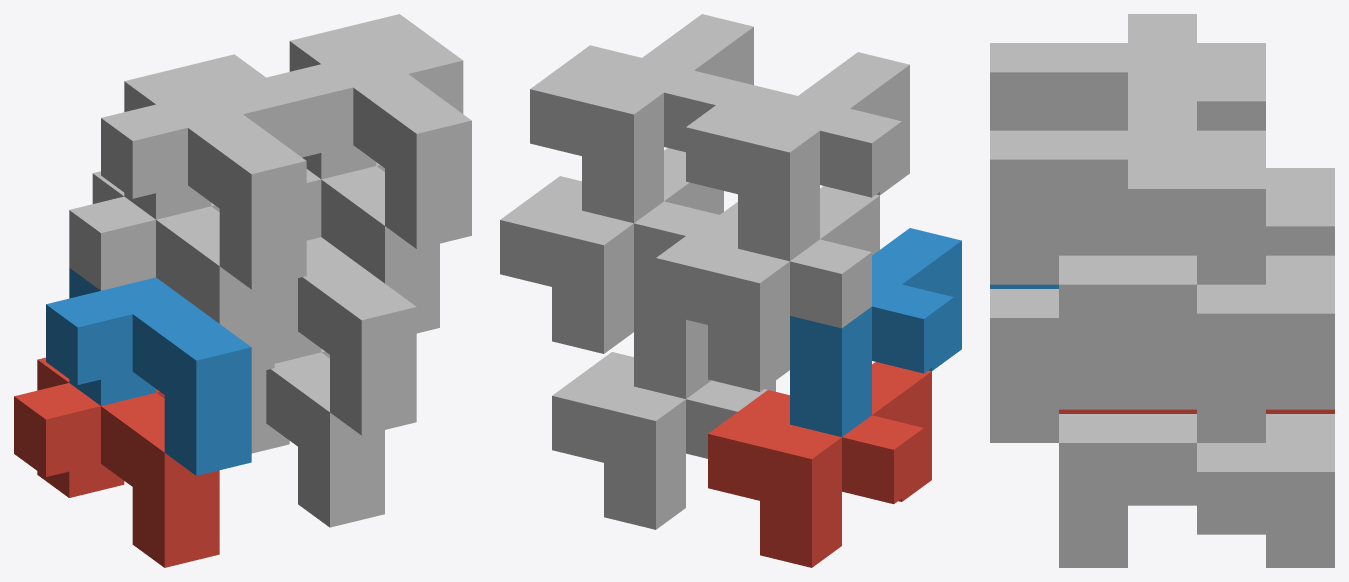
File: tiling.obj
3 renders of one model, left to right at view 1: azimuth 30°, elevation 25°; view 2: azimuth 150°, elevation 25°; view 3: azimuth 270°, elevation 25°, orthographic. The views are drawn at different scales.
Visible parts, largest first — view 1: copy_1_domain_4, copy_1_domain_8, copy_1_domain_2, copy_1_domain_1, copy_1_domain_6, copy_1_domain_3, copy_1_domain_5, copy_1_domain_7; view 2: copy_1_domain_4, copy_1_domain_8, copy_1_domain_1, copy_1_domain_3, copy_1_domain_7, copy_1_domain_2, copy_1_domain_5, copy_1_domain_6; view 3: copy_1_domain_8, copy_1_domain_7, copy_1_domain_5, copy_1_domain_4, copy_1_domain_6, copy_1_domain_3, copy_1_domain_1.
Boxes of the visible parts, x1,y1,x2,y2 form: copy_1_domain_4: [101, 54, 306, 289]; copy_1_domain_8: [266, 14, 471, 248]; copy_1_domain_2: [46, 268, 251, 475]; copy_1_domain_1: [14, 357, 219, 567]; copy_1_domain_6: [274, 237, 416, 435]; copy_1_domain_3: [69, 171, 274, 373]; copy_1_domain_5: [251, 349, 384, 527]; copy_1_domain_7: [306, 162, 439, 333]; copy_1_domain_4: [686, 52, 909, 261]; copy_1_domain_8: [530, 14, 753, 223]; copy_1_domain_1: [708, 362, 931, 567]; copy_1_domain_3: [656, 186, 879, 391]; copy_1_domain_7: [500, 148, 723, 353]; copy_1_domain_2: [790, 228, 961, 436]; copy_1_domain_5: [552, 352, 775, 529]; copy_1_domain_6: [634, 202, 737, 398]; copy_1_domain_8: [990, 101, 1265, 284]; copy_1_domain_7: [1059, 255, 1334, 409]; copy_1_domain_5: [1059, 414, 1334, 567]; copy_1_domain_4: [990, 14, 1265, 130]; copy_1_domain_6: [990, 289, 1265, 442]; copy_1_domain_3: [1059, 168, 1334, 255]; copy_1_domain_1: [1059, 409, 1334, 413].
Bounding box in the file's own units: 7 × 7 × 5.
